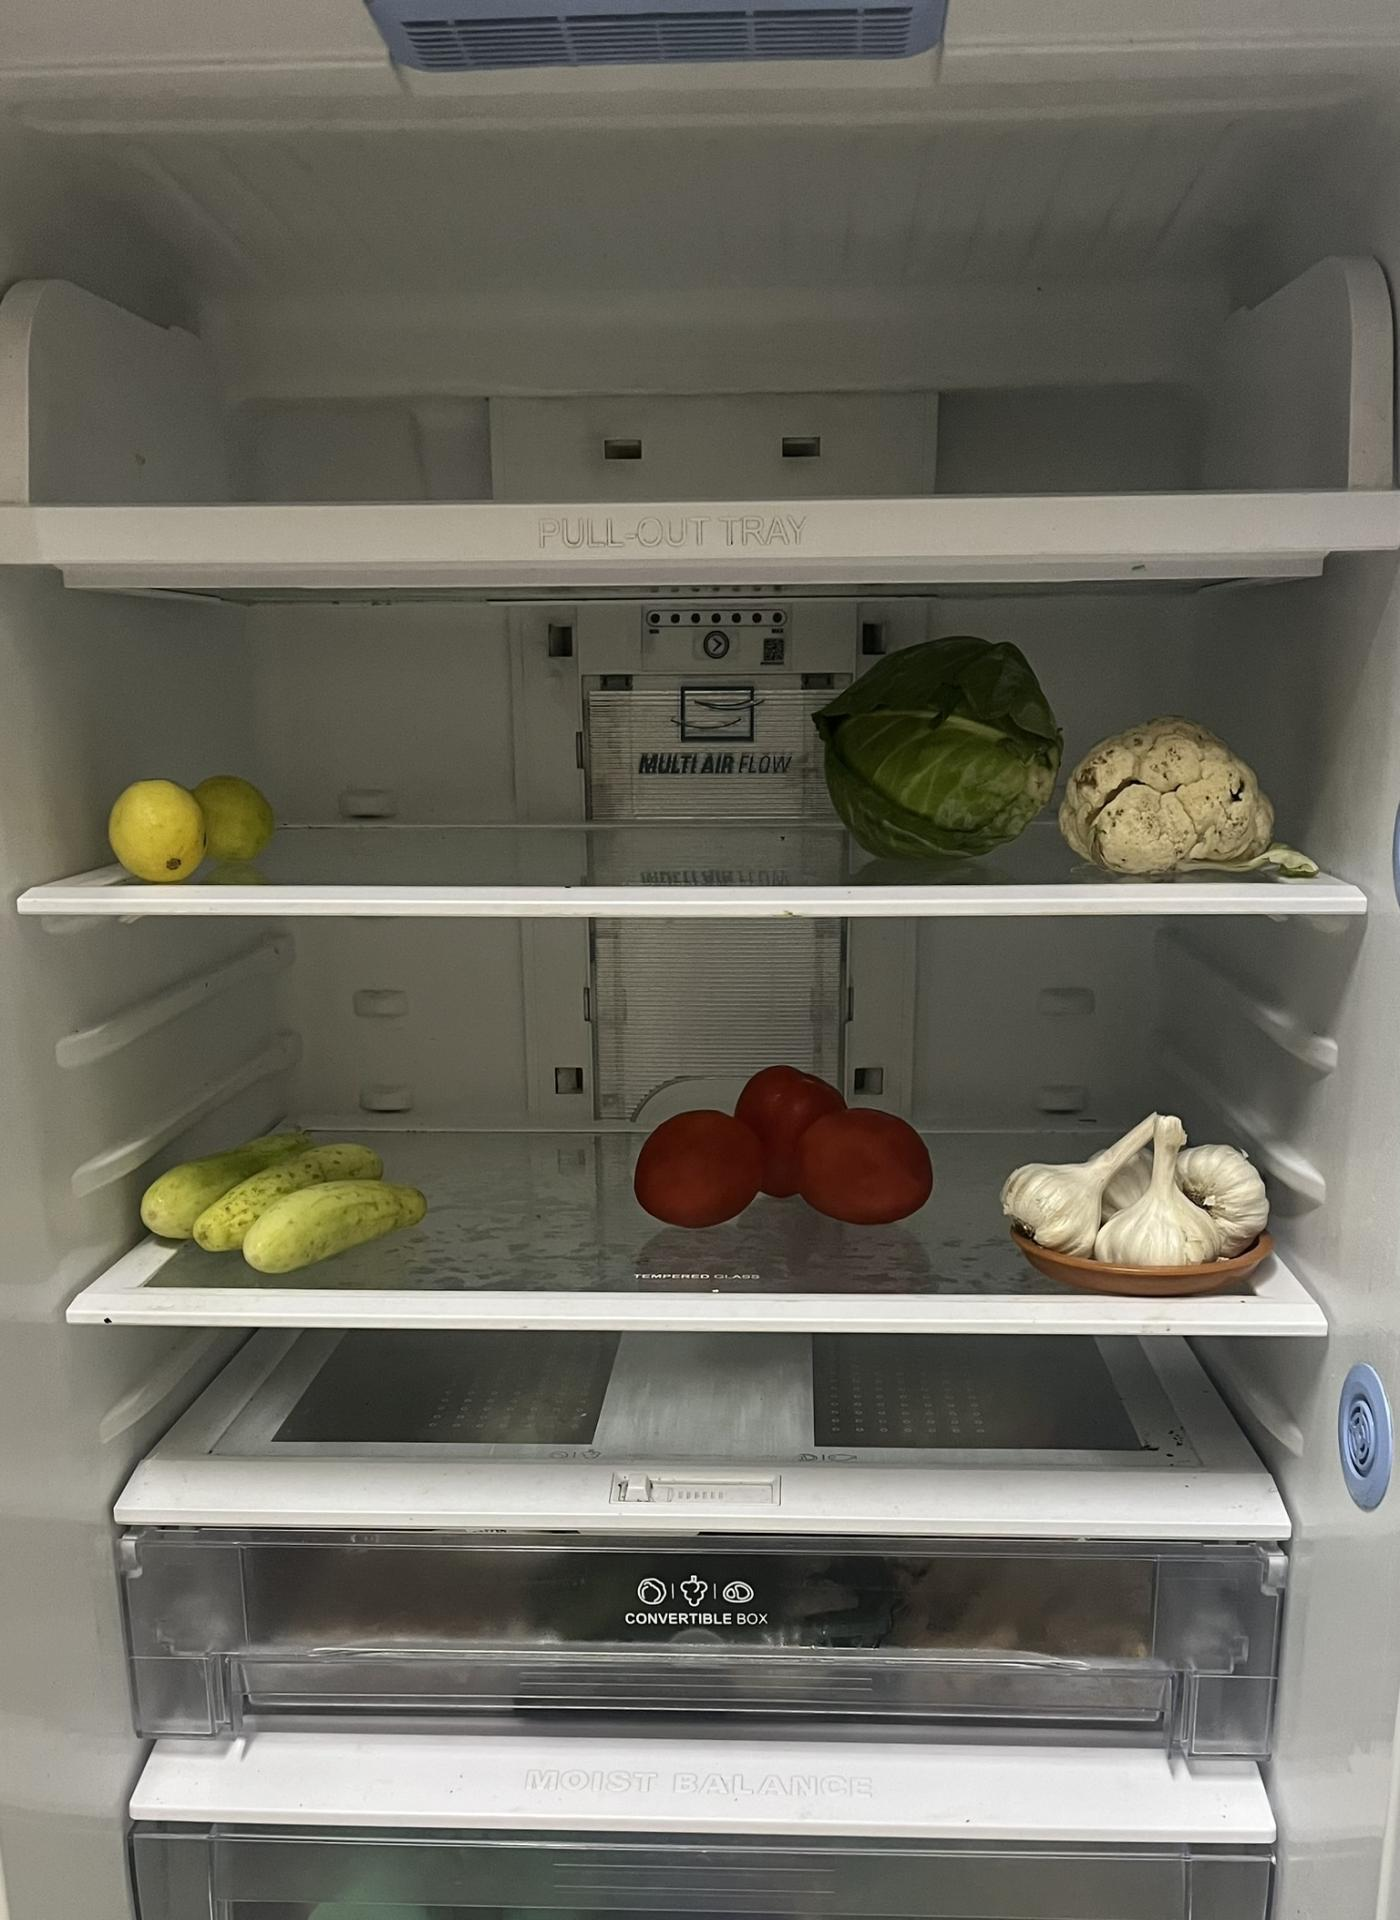cabbage: (811, 631, 1069, 866)
cauliflower: (1066, 716, 1270, 866)
cucumber: (140, 1125, 413, 1272)
garlic: (1012, 1109, 1273, 1263)
lemon: (112, 775, 279, 894)
tomato: (629, 1063, 927, 1234)
